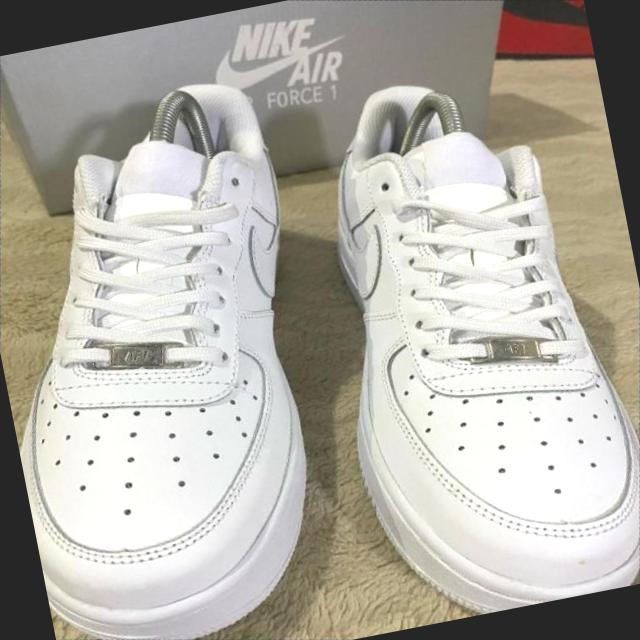nike_fake_airforce: (225, 35, 640, 640), (0, 29, 403, 640)
